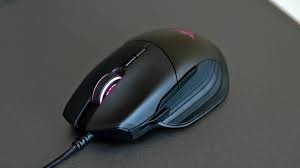mouse: (61, 27, 231, 144)
